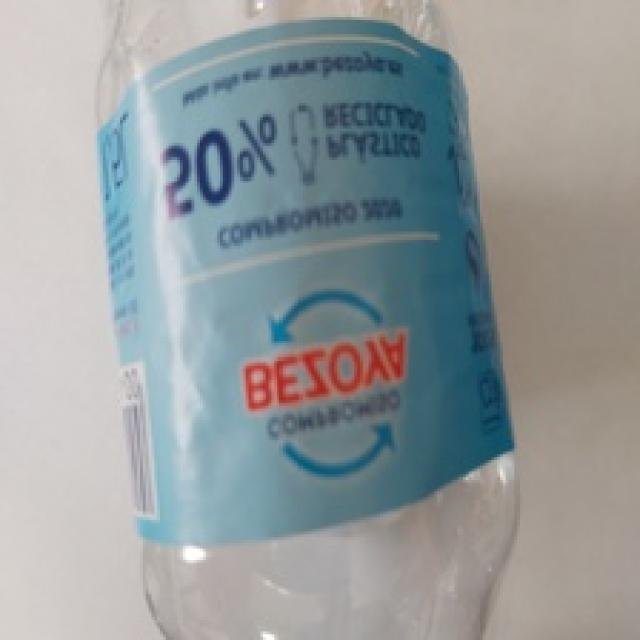plastic: (80, 3, 543, 640)
